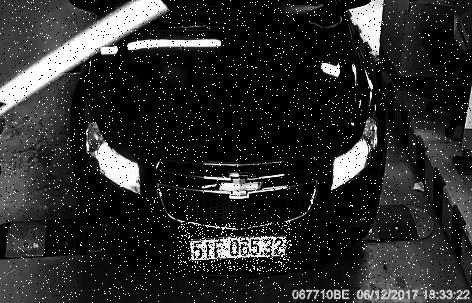License-plate: (180, 224, 294, 274)
